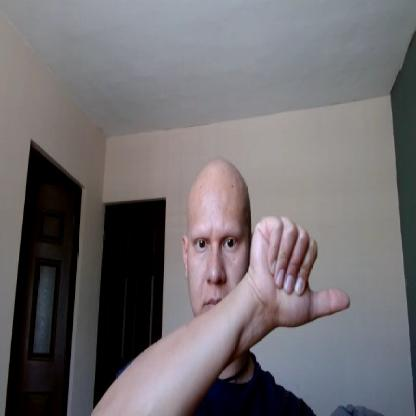A: (250, 215, 351, 329)
